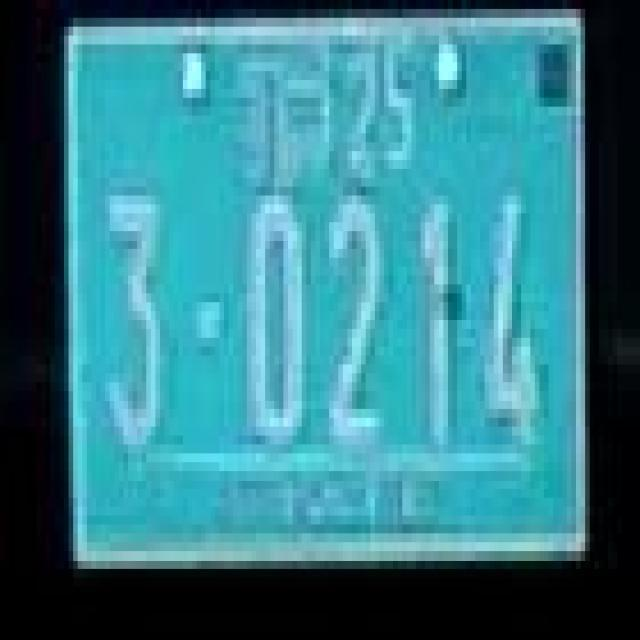State: (242, 45, 332, 187)
